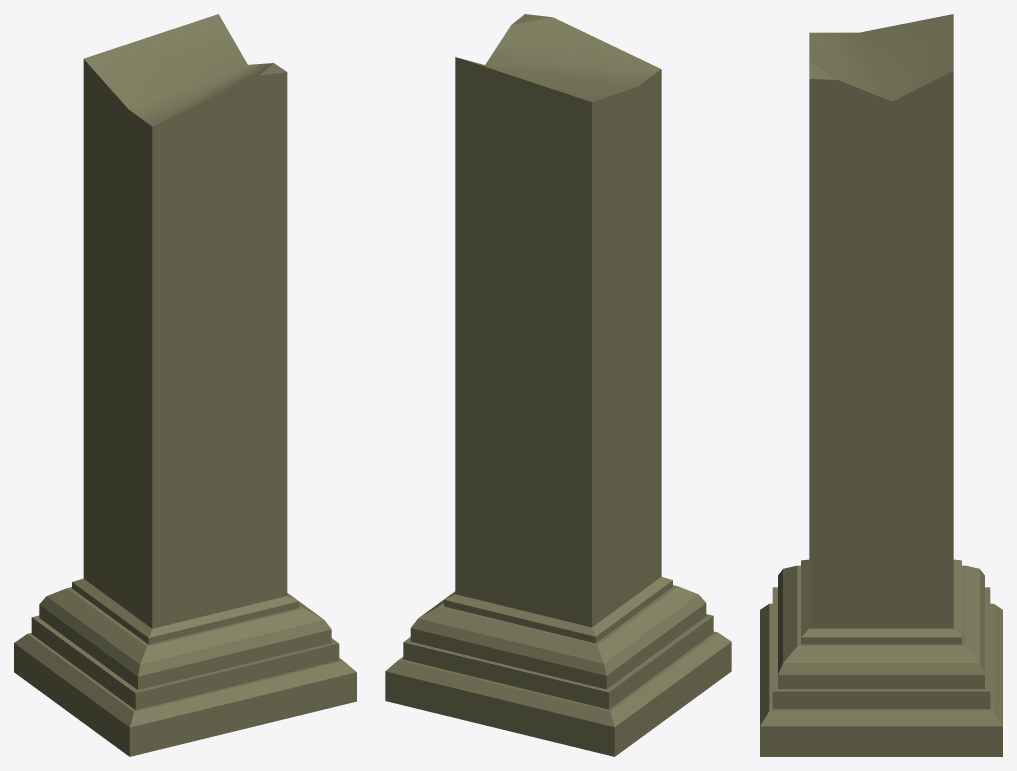
Rendered from ruineColumn01half1.fbx.
The picture shows the model from 3 angles, left to right: view 1: azimuth 30°, elevation 25°; view 2: azimuth 150°, elevation 25°; view 3: azimuth 270°, elevation 25°; orthographic projection. The views are drawn at different scales.
Parts seen in each view (by area): view 1: ruineColumn01half1; view 2: ruineColumn01half1; view 3: ruineColumn01half1.
Boxes of the visible parts, box(x1,y1,x2,y2) form: ruineColumn01half1: box(14, 14, 356, 756); ruineColumn01half1: box(385, 14, 731, 756); ruineColumn01half1: box(760, 14, 1002, 756).
Size of the model in its own units: 0.1525 by 0.4049 by 0.1345.
